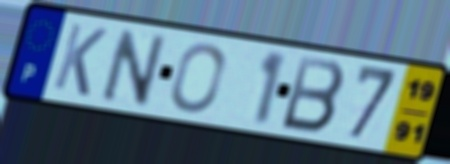1: (255, 49, 289, 128)
7: (349, 62, 401, 143)
B: (278, 53, 348, 136)
K: (49, 19, 110, 99)
N: (99, 25, 170, 108)
O: (168, 41, 227, 115)
